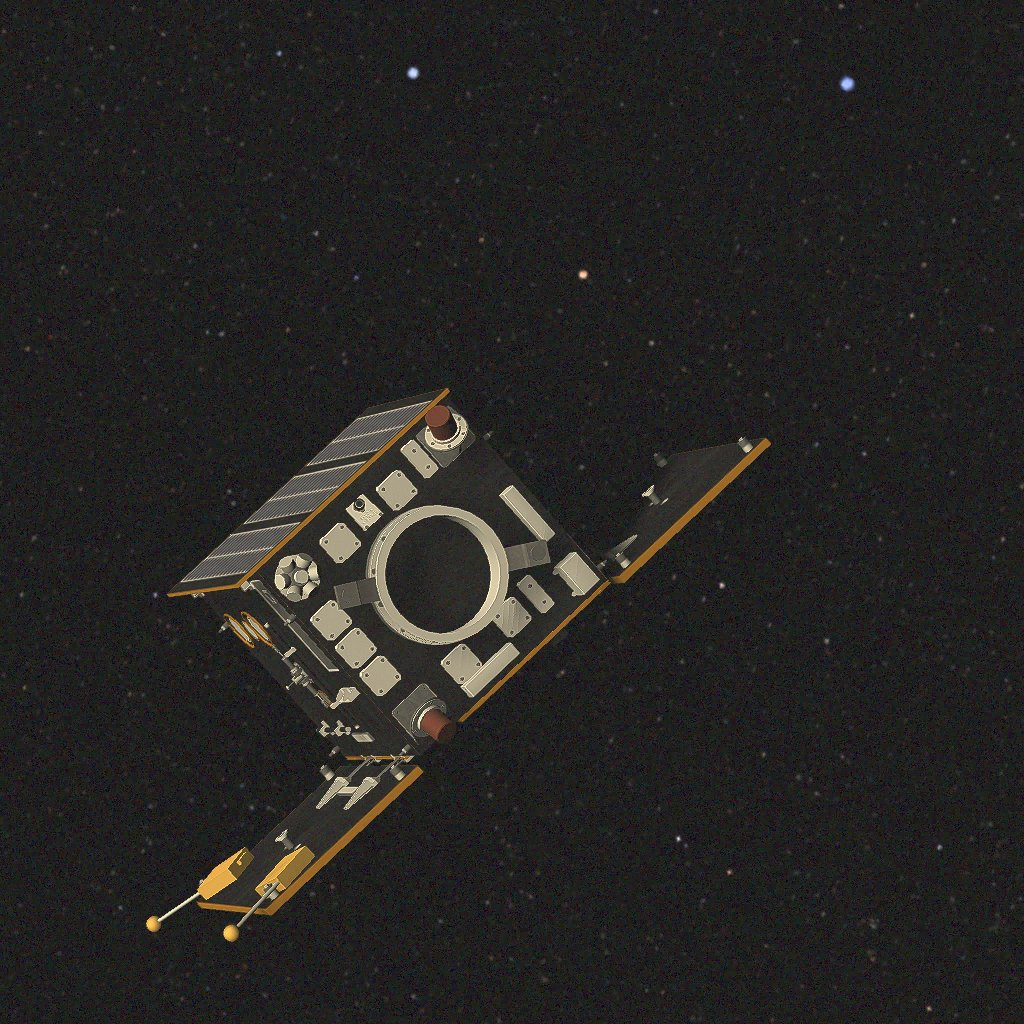proba_2: (146, 388, 771, 942)
